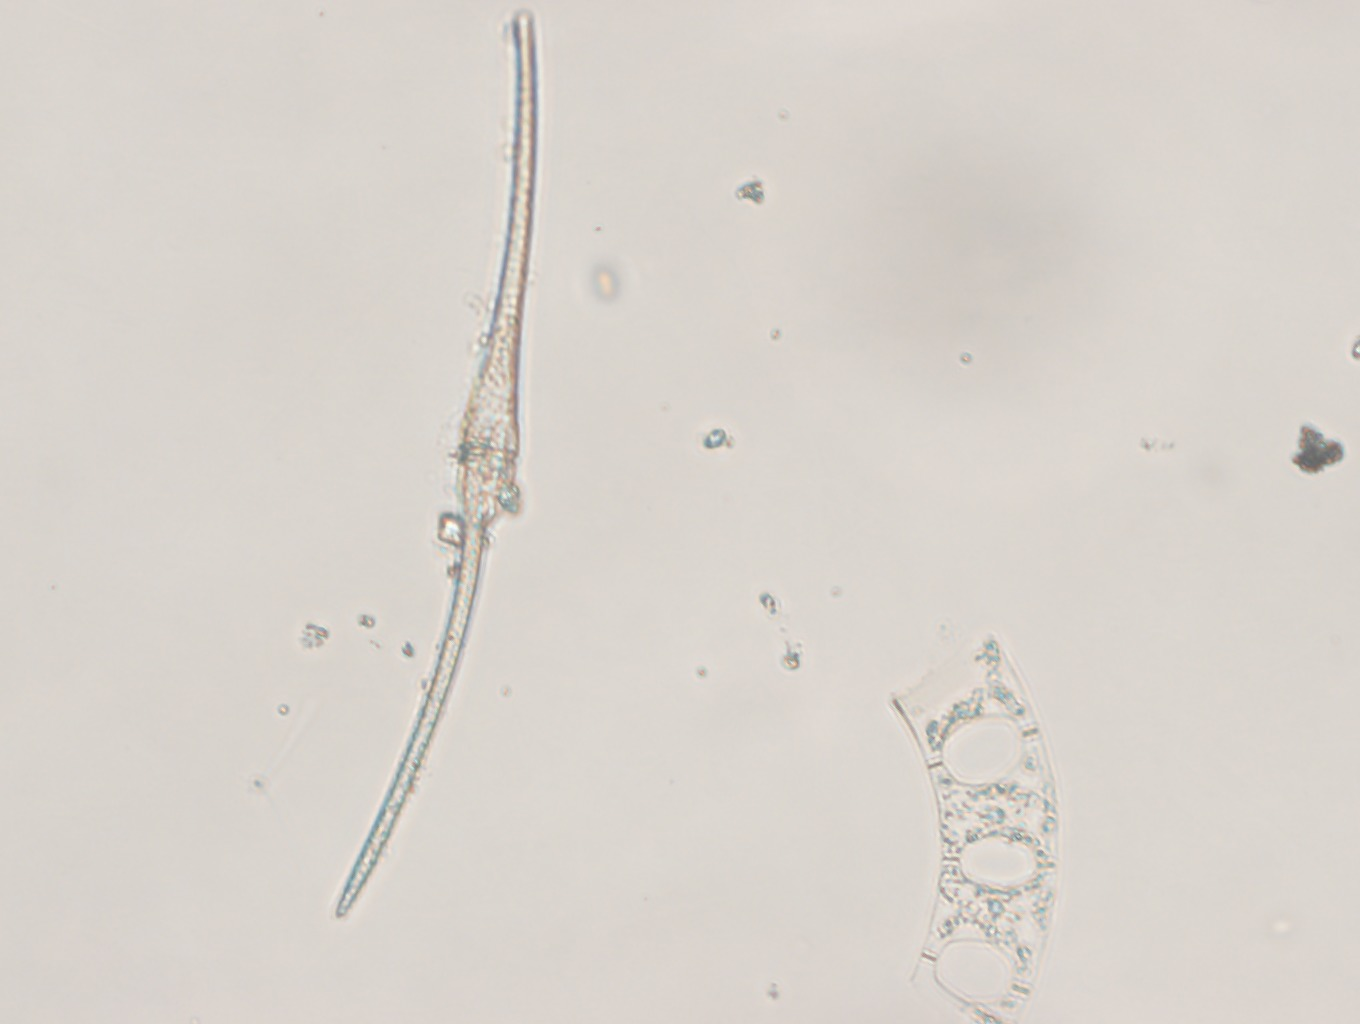ceratium fusus: (318, 5, 566, 923)
eucampia: (873, 634, 1072, 1024)
